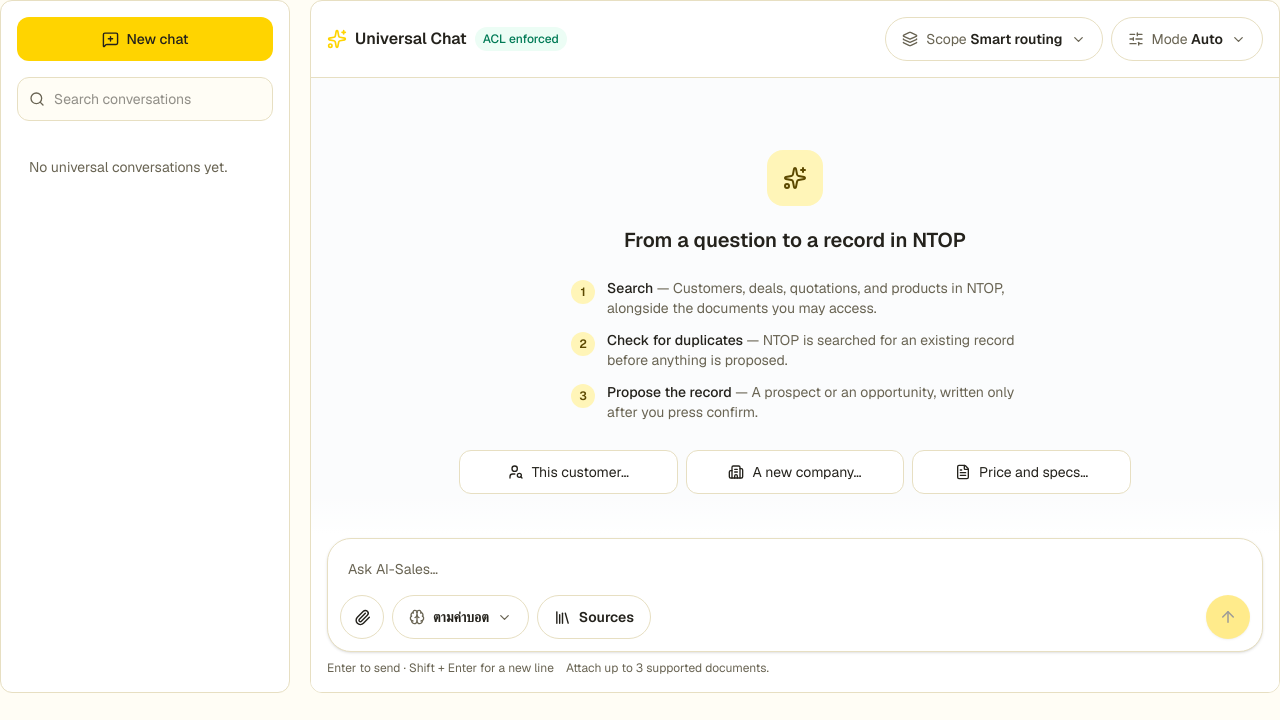
Test: universal chat trace › reports both the rounds and the steps in the summary
The image size is (1280, 720).
In the text box with placeholder "Ask AI-Sales…": (795, 569) [336,547,1254,591], type "ถาม"
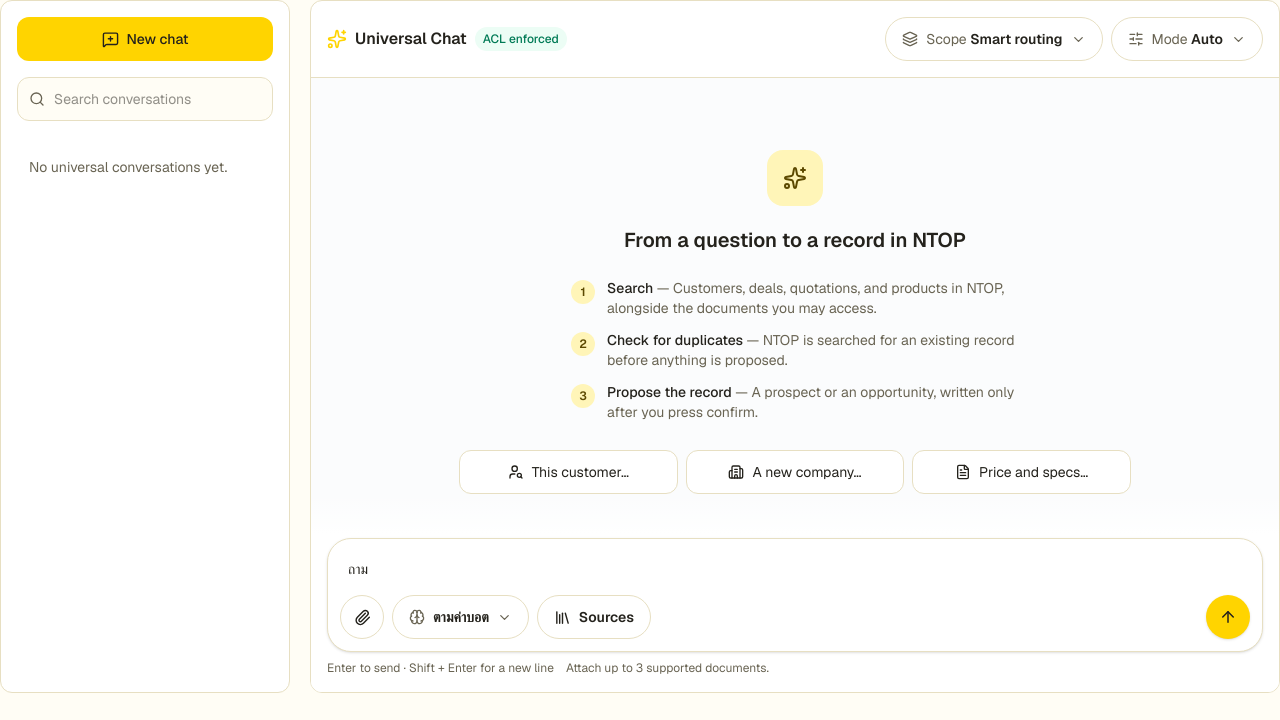
Click the button named "Send message": (1228, 617) [1206,595,1250,639]
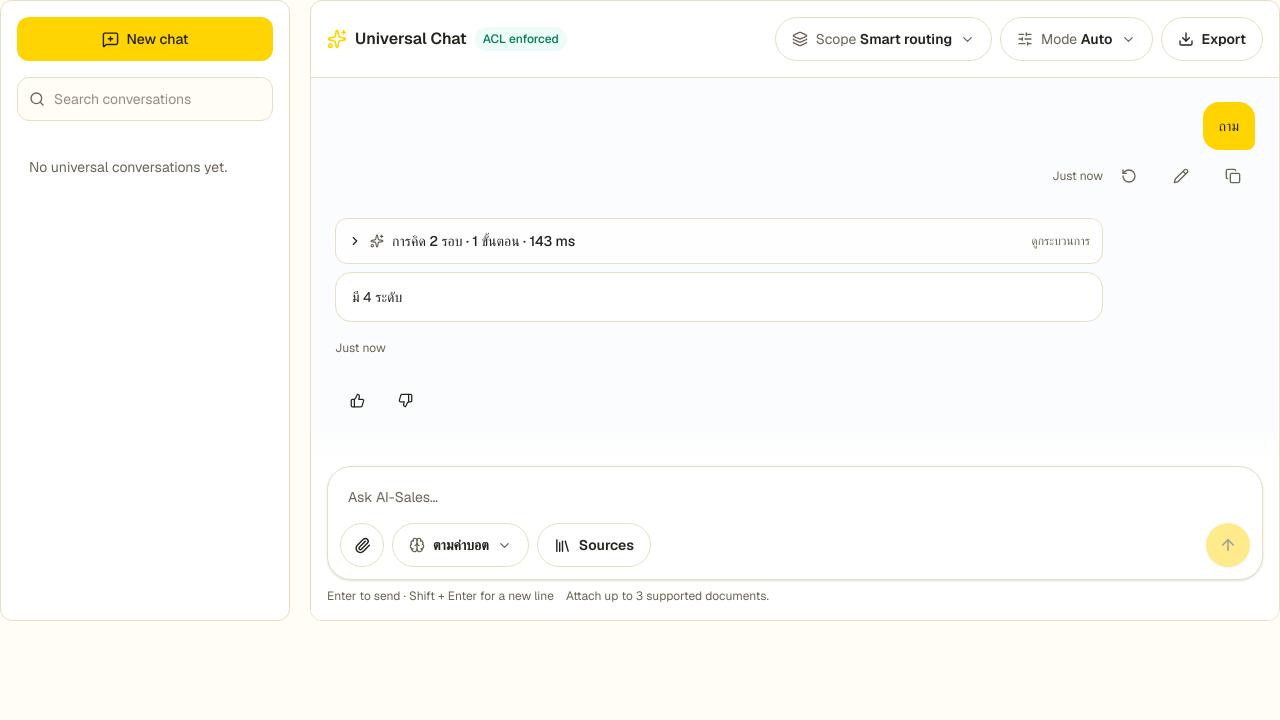
Expected: the text "มี 4 ระดับ" is shown, [352,288,402,306]
Expected: the button "การคิด 2 รอบ · 1 ขั้นตอน · 143 ms ดูกระบวนการ" is shown, [336,219,1102,263]
